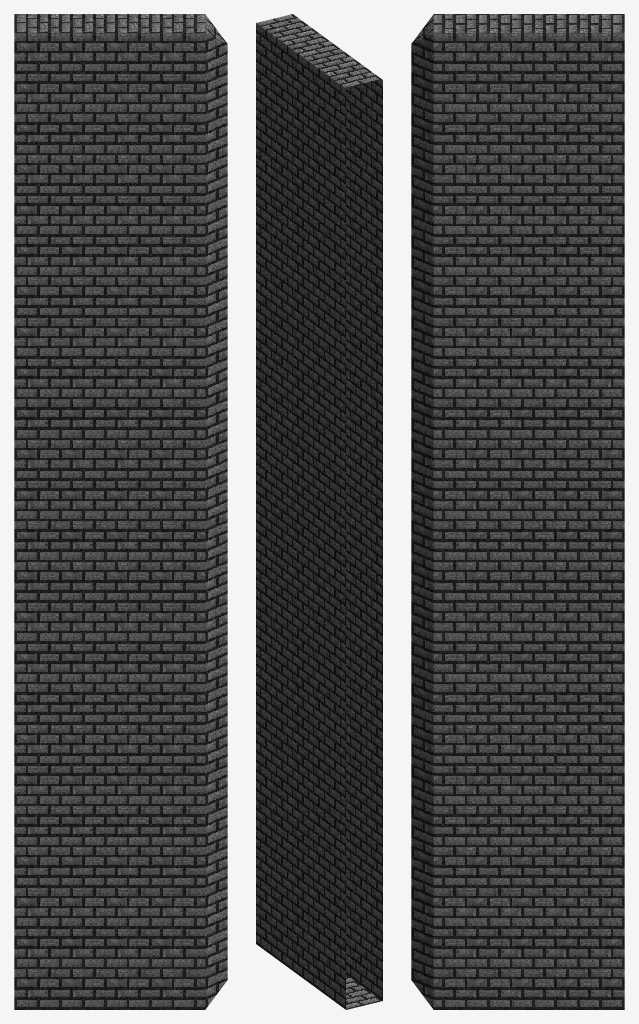
The model's file is wall.obj.
The picture shows the model from 3 angles, left to right: view 1: azimuth 90°, elevation 25°; view 2: azimuth 210°, elevation 25°; view 3: azimuth 270°, elevation 25°; orthographic projection. The views are drawn at different scales.
Bounding box in the file's own units: 64 × 1536 × 304.
